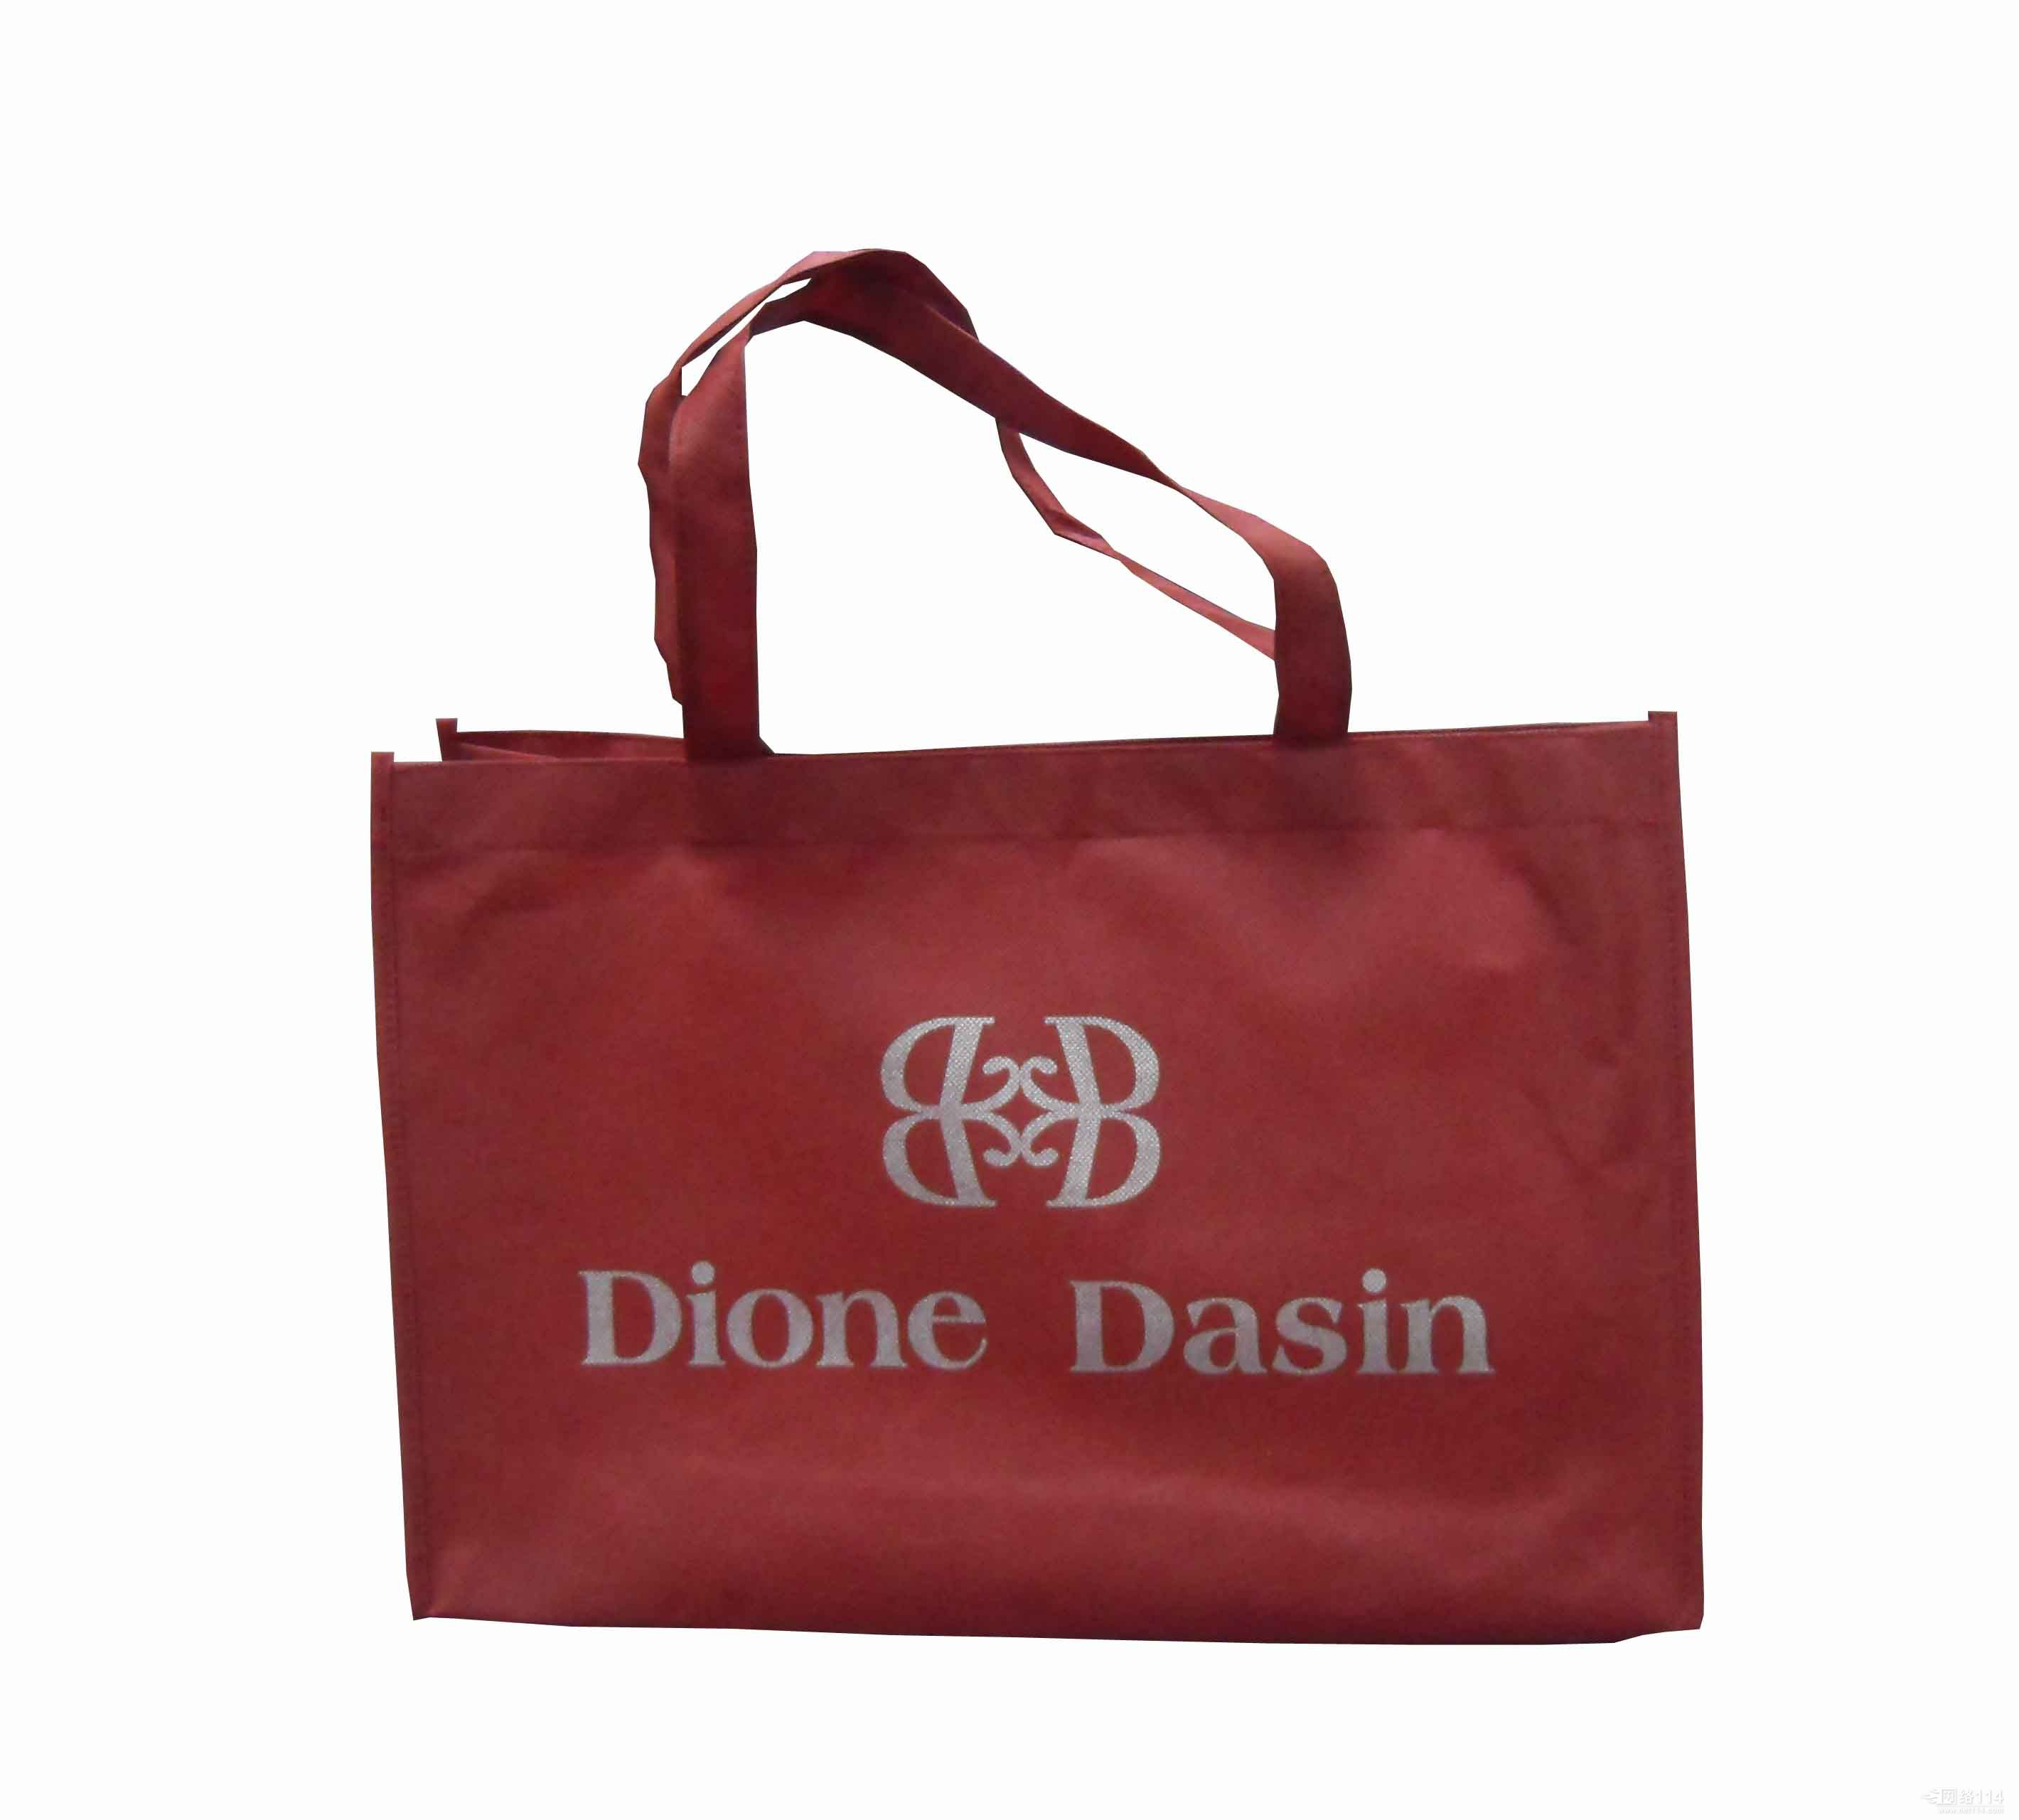flexible: (322, 228, 1727, 1662)
